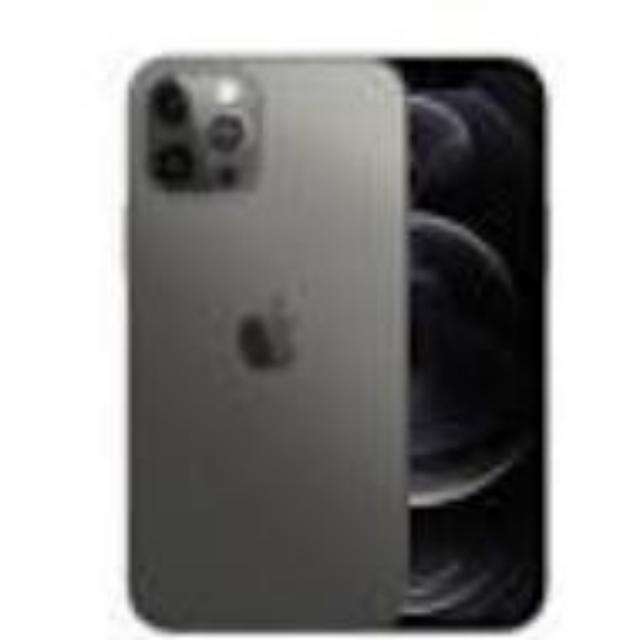phone: (130, 53, 424, 628)
